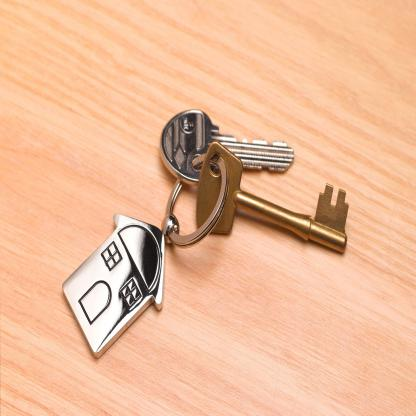keys: (157, 102, 348, 270)
